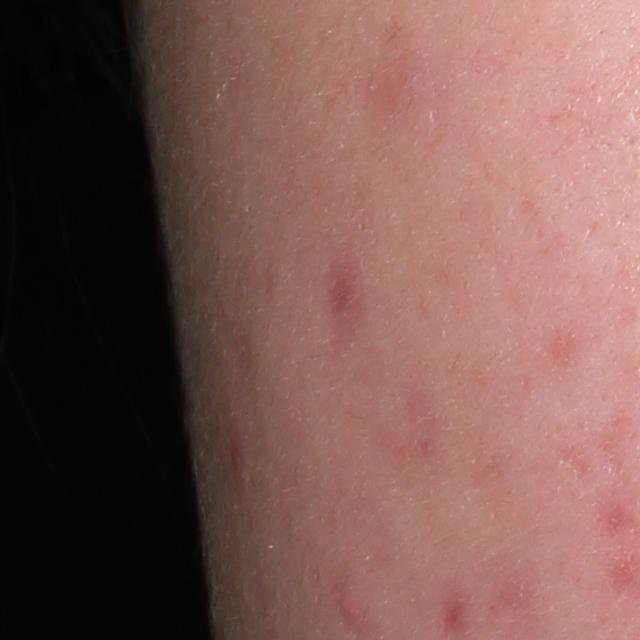atrophic_scar: (558, 445, 593, 486)
papule: (331, 583, 365, 620)
